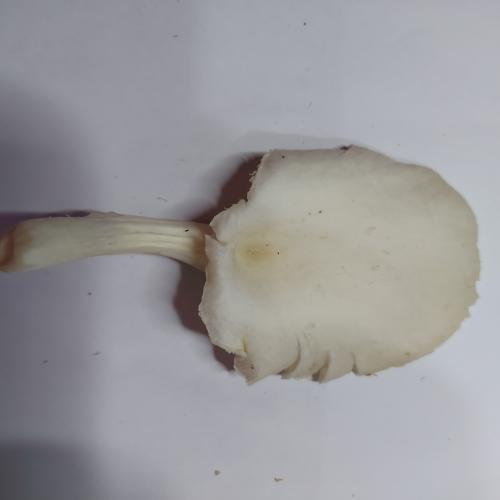Oyster Mushroom: (2, 143, 482, 386)
